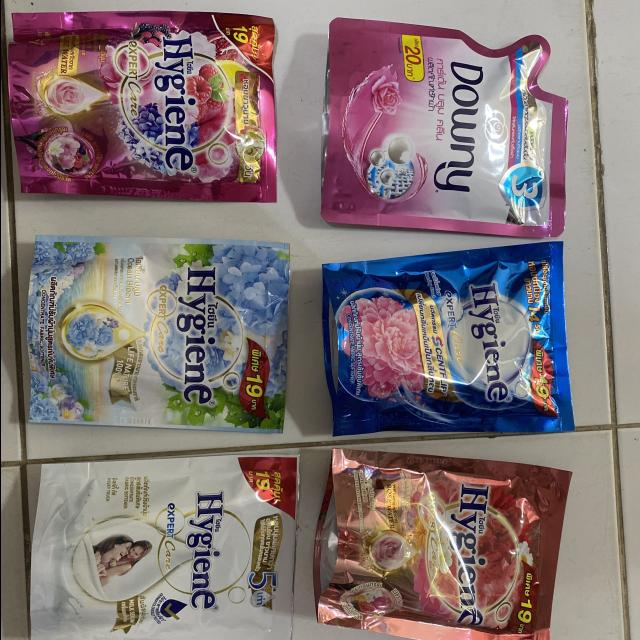plastik: (317, 19, 564, 238), (27, 236, 289, 433), (6, 11, 276, 202), (312, 448, 570, 640), (30, 455, 297, 640), (321, 242, 573, 435)
